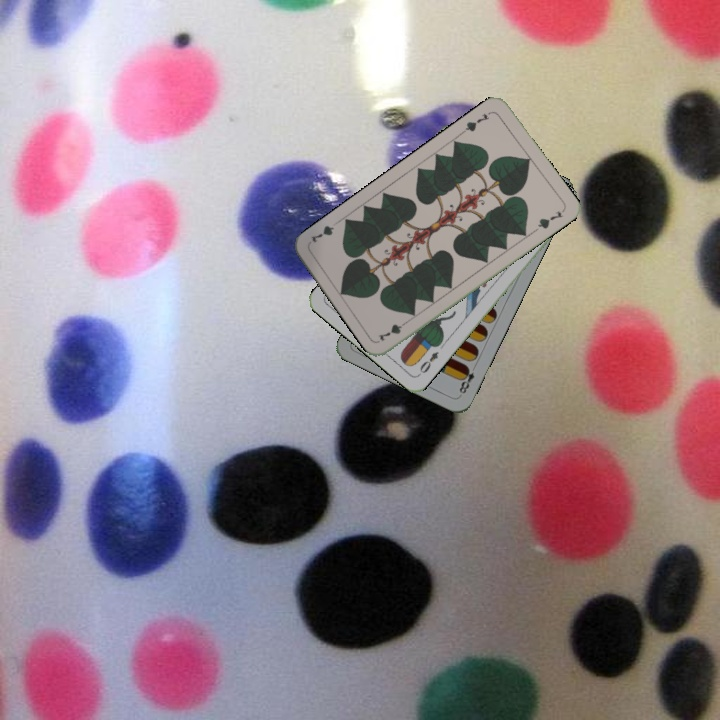E8: (455, 361, 479, 398)
EO: (414, 347, 441, 378)
G7: (374, 315, 412, 344), (459, 107, 494, 135)
